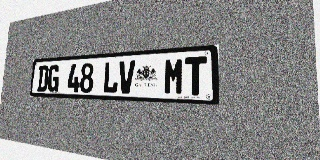4: (67, 63, 81, 92)
8: (79, 63, 94, 93)
D: (37, 65, 49, 92)
G: (47, 65, 60, 92)
L: (102, 61, 119, 93)
M: (164, 57, 184, 95)
T: (184, 56, 207, 96)
V: (118, 60, 135, 94)
